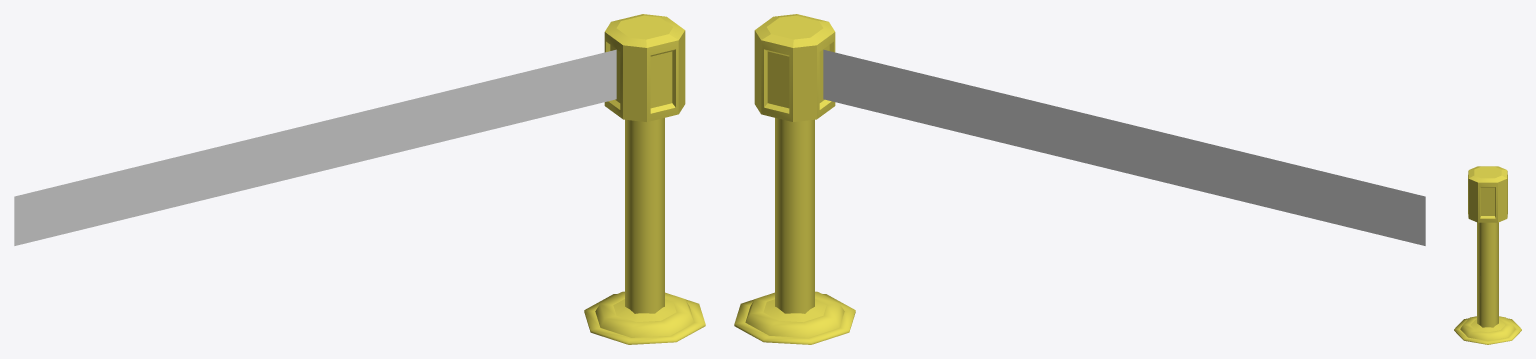
The model's file is HolographicRailing_mesh.fbx.
The picture shows the model from 3 angles, left to right: view 1: azimuth 30°, elevation 25°; view 2: azimuth 150°, elevation 25°; view 3: azimuth 270°, elevation 25°; orthographic projection. The views are drawn at different scales.
Visible parts, largest first — view 1: RailingTape_mesh, HolographicRailing_mesh; view 2: RailingTape_mesh, HolographicRailing_mesh; view 3: HolographicRailing_mesh.
Boxes of the visible parts, box(x1,y1,x2,y2) form: RailingTape_mesh: box(14, 49, 616, 245); HolographicRailing_mesh: box(584, 14, 705, 344); RailingTape_mesh: box(823, 49, 1425, 245); HolographicRailing_mesh: box(734, 14, 855, 344); HolographicRailing_mesh: box(1454, 166, 1521, 344).
Bounding box in the file's own units: 329 × 134 × 52.17.
